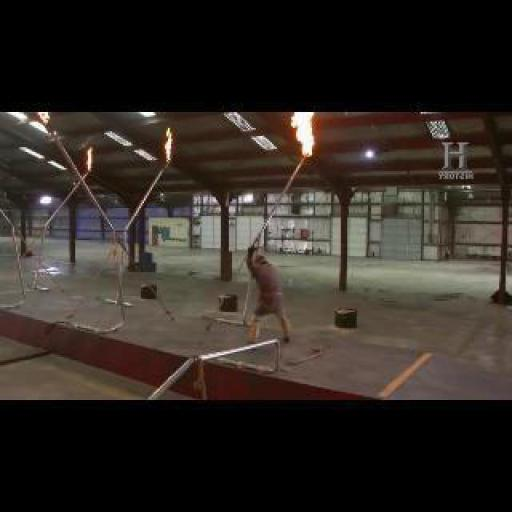smoke: (286, 114, 322, 155), (155, 128, 181, 162), (80, 149, 104, 173)
